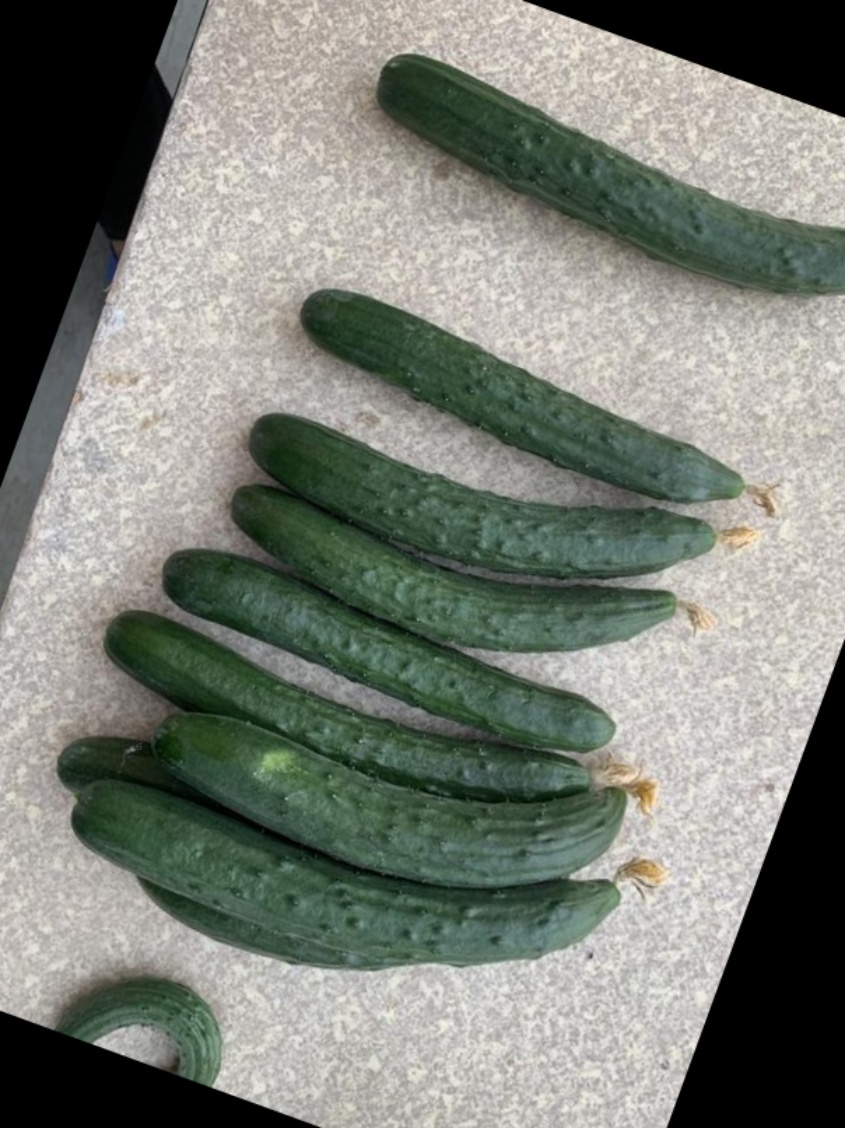mature: (74, 781, 617, 959)
